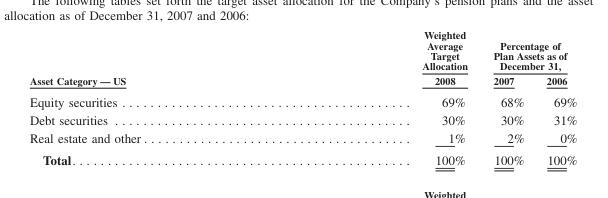table: (28, 28, 576, 166)
table column: (28, 28, 283, 166), (283, 28, 479, 166), (479, 28, 534, 166), (534, 28, 576, 166)
table column header: (28, 28, 576, 89)
table row: (28, 28, 576, 72), (28, 89, 576, 110), (28, 128, 576, 148), (28, 110, 576, 128), (28, 148, 576, 166), (28, 72, 576, 89)
table spanning cell: (28, 28, 283, 89), (283, 28, 479, 89), (479, 28, 576, 72)
